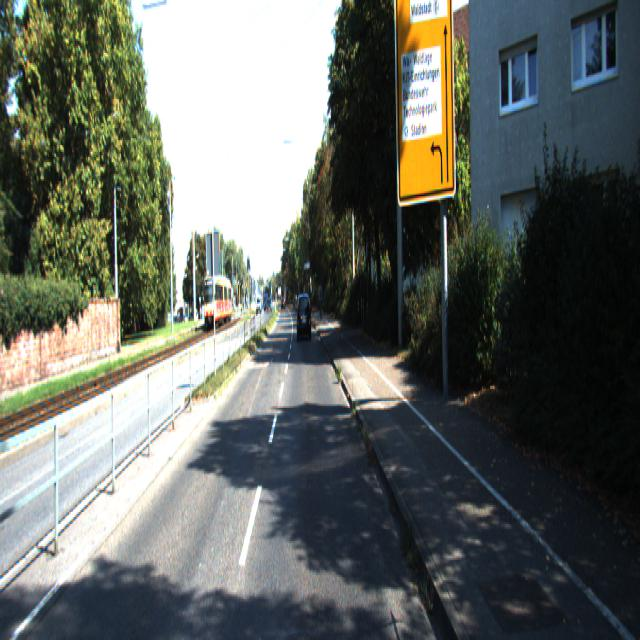Car: (204, 276, 233, 330), (297, 294, 312, 342)
